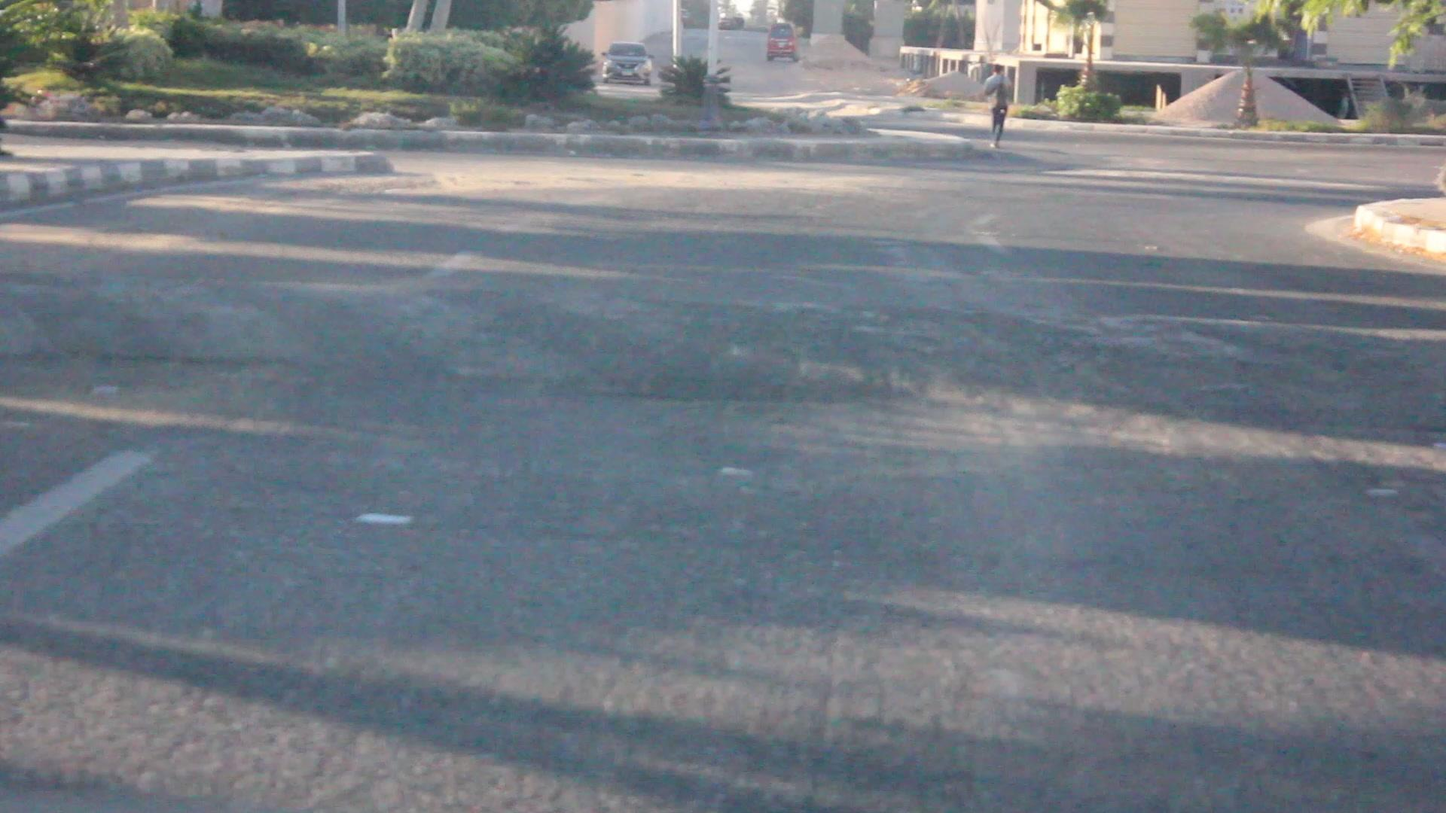Bump: (0, 258, 1446, 437)
